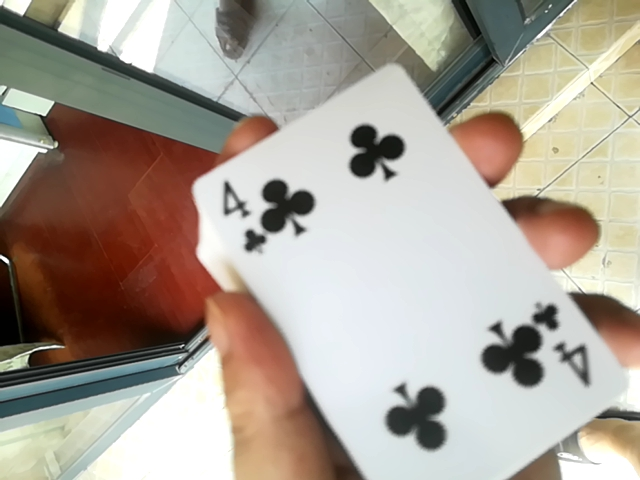mh 4: (171, 39, 632, 479)
